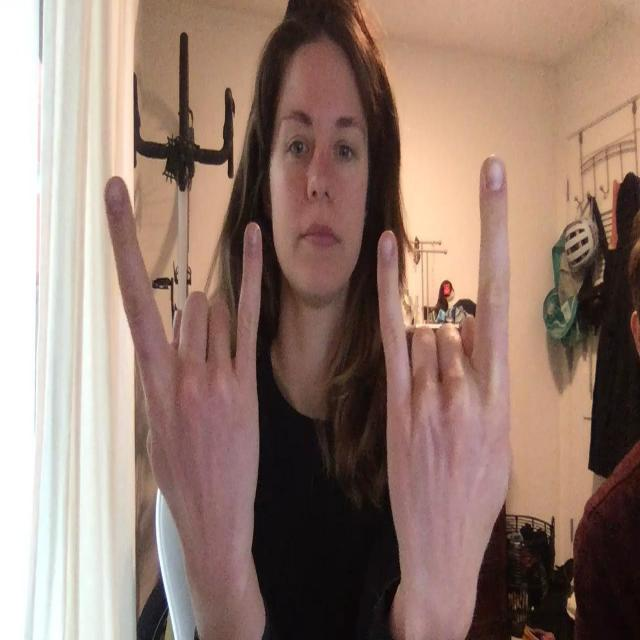face: (268, 50, 370, 301)
